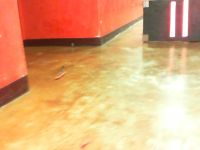switch: (181, 1, 190, 38), (168, 1, 176, 38)
